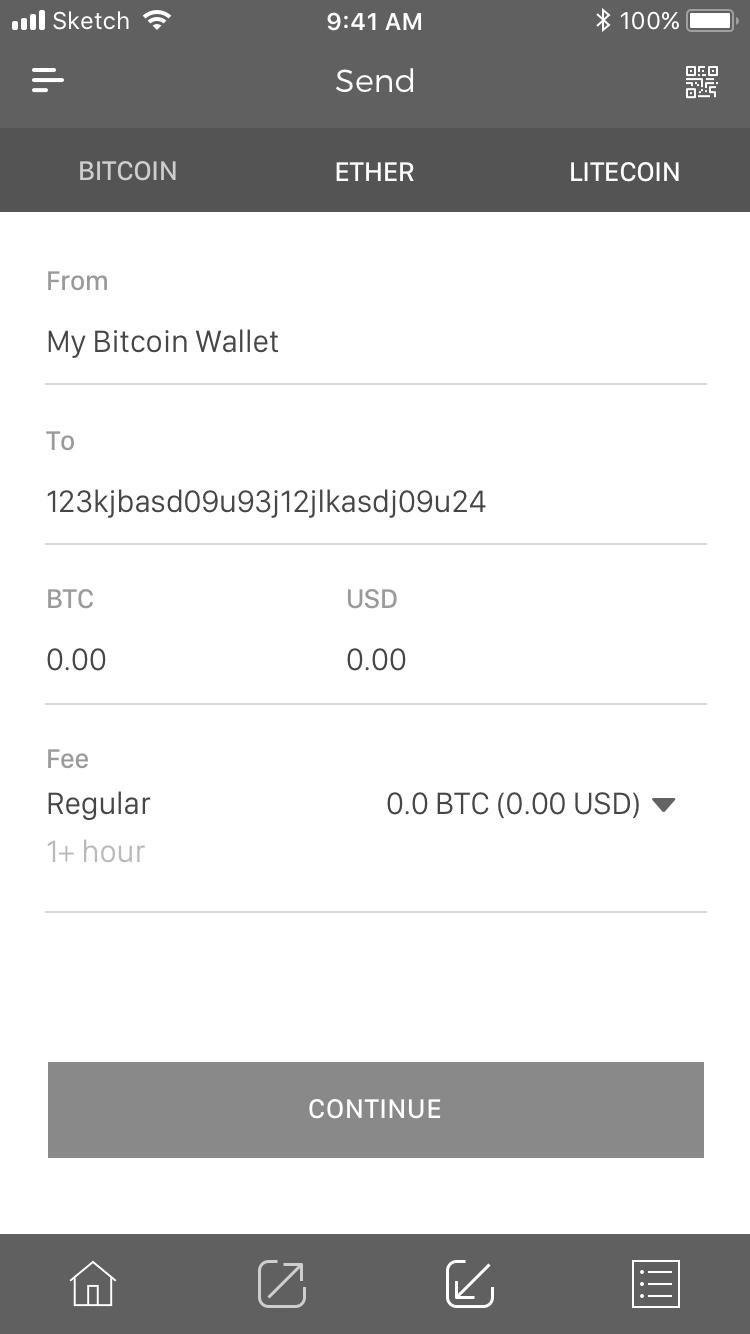Bottom_Navigation: (1, 1234, 750, 1334)
Icon: (255, 1257, 308, 1310), (630, 1257, 682, 1310), (443, 1258, 496, 1309), (69, 1258, 116, 1309), (683, 63, 721, 101), (28, 66, 66, 96)
Multi_Tab: (2, 129, 750, 213)
Spinner: (386, 788, 679, 821)
Text: (45, 485, 486, 518), (47, 328, 280, 356), (47, 791, 154, 821), (568, 158, 681, 185), (46, 836, 147, 865), (335, 64, 415, 96), (78, 158, 179, 183), (335, 157, 415, 185), (46, 267, 110, 294), (45, 645, 107, 671), (346, 645, 406, 671), (45, 587, 97, 611), (44, 745, 91, 771), (345, 588, 398, 610), (44, 428, 78, 454)
TextButton: (48, 1061, 705, 1160)
Toolbar: (2, 45, 750, 129)
UpperTaskBar: (1, 1, 750, 35)
